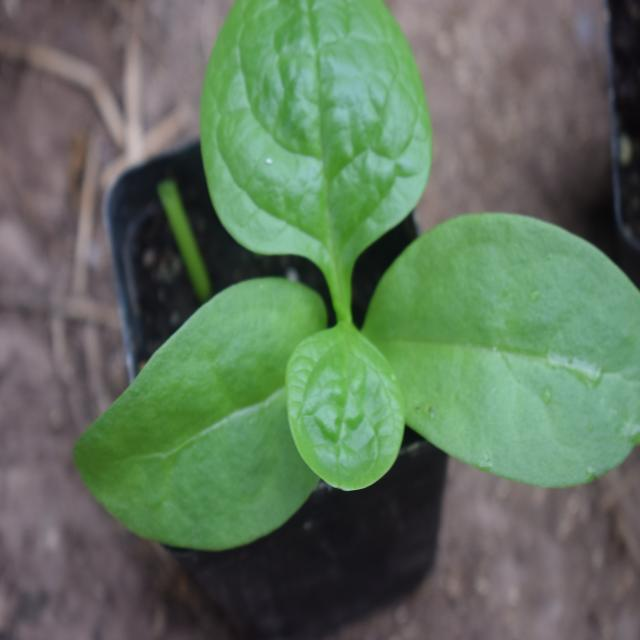Ceylon spinach: (64, 0, 635, 550)
